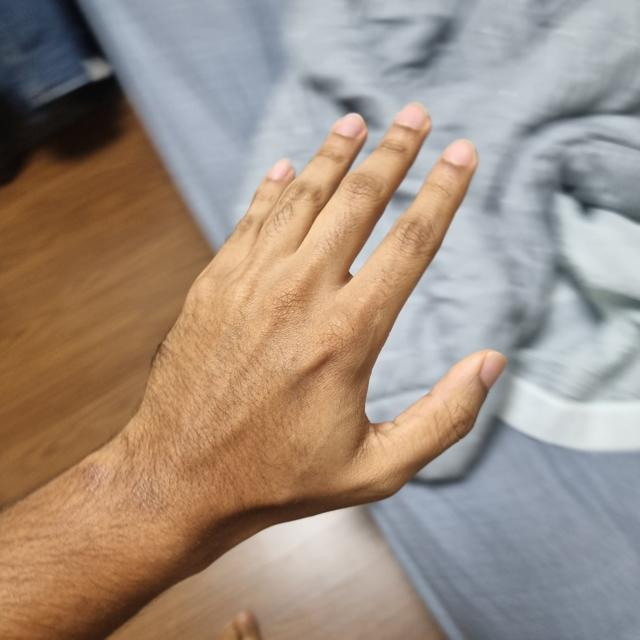Paper: (133, 108, 502, 528)
